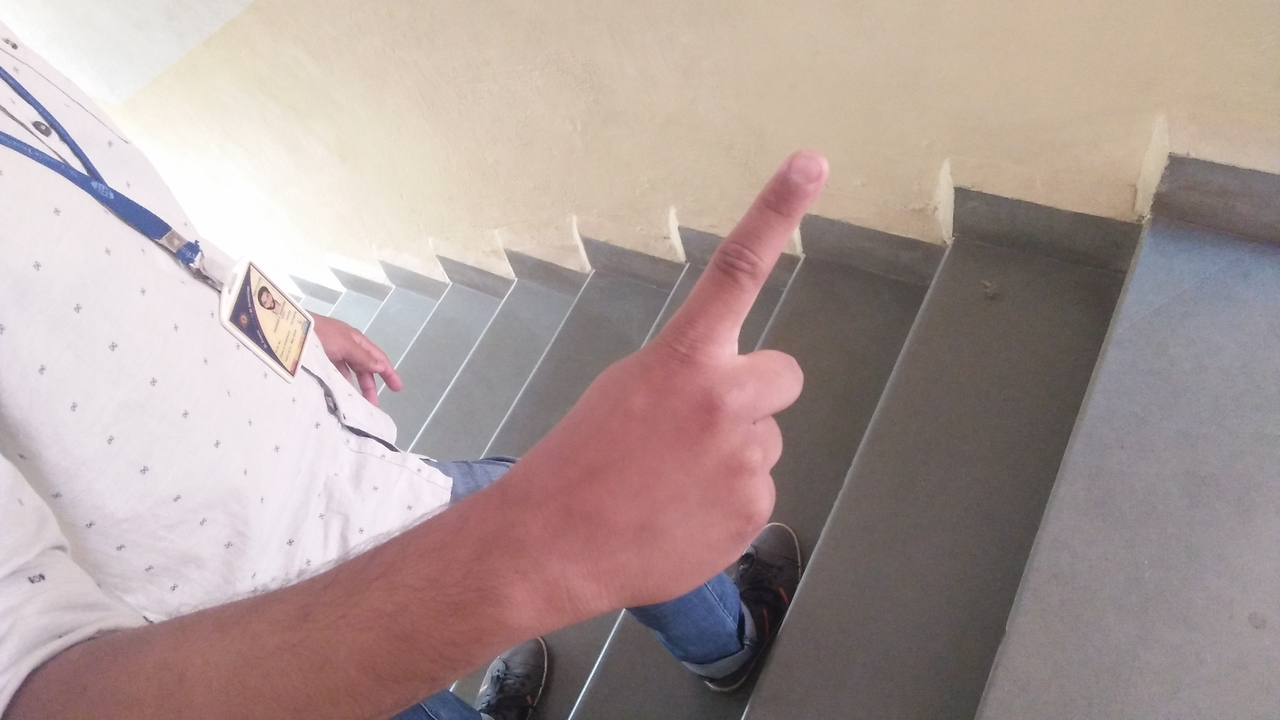fingertip: (776, 146, 840, 196)
